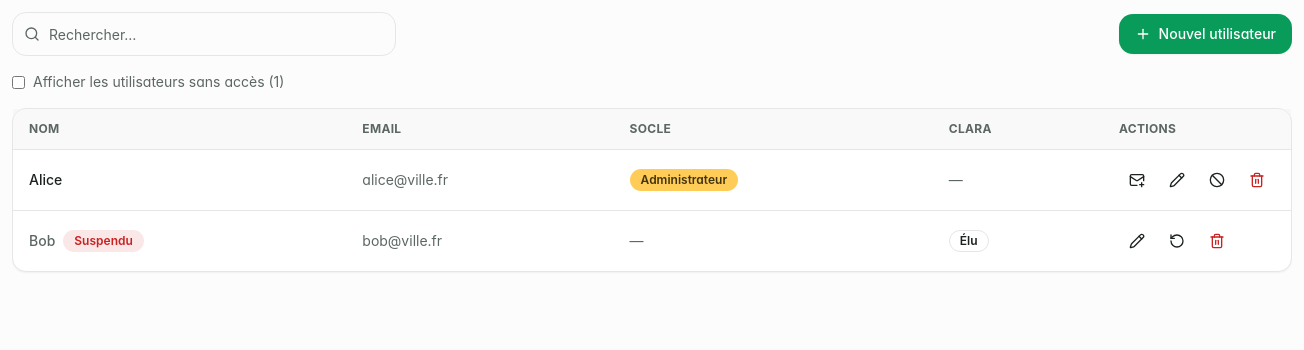
it: UsersManagementPage › masque par défaut les utilisateurs dont tous les accès sont retirés
The width and height of the screenshot is (1304, 350).
Expected: the text "ancien@ville.fr" is not shown
Click the checkbox labelled "Afficher les utilisateurs sans accès (1)" at coordinates (18, 82), box 12,76 -> 25,88
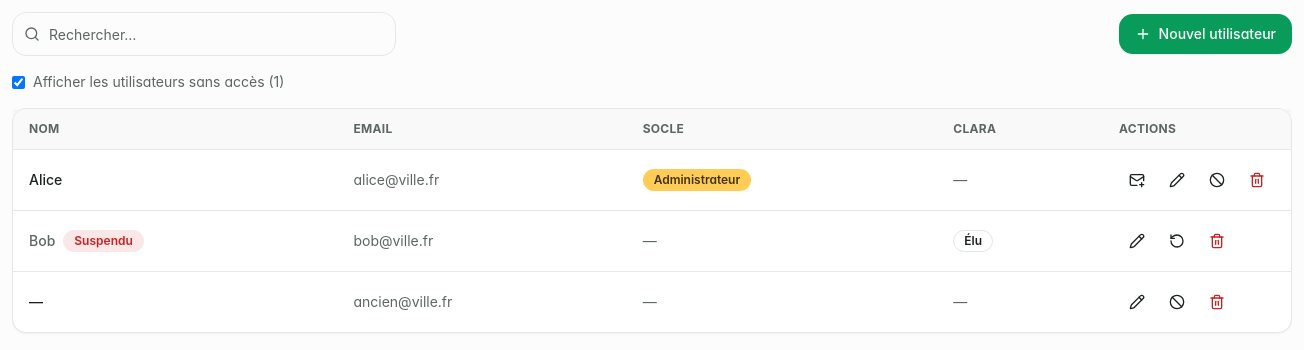
Expected: the text "ancien@ville.fr" is shown, 337,272 -> 627,332
